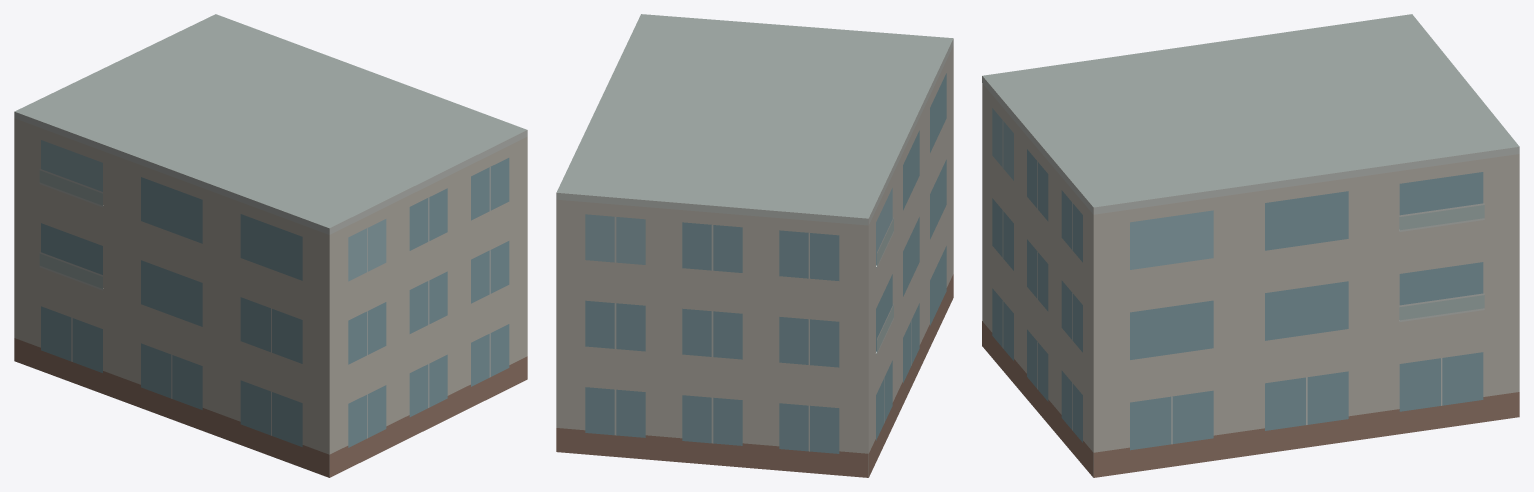
The model's file is survey-upis-32721282.glb.
3 renders of one model, left to right at view 1: azimuth 30°, elevation 25°; view 2: azimuth 150°, elevation 25°; view 3: azimuth 270°, elevation 25°, orthographic. The views are drawn at different scales.
Visible parts, largest first — view 1: survey-upis-32721282.tmp; view 2: survey-upis-32721282.tmp; view 3: survey-upis-32721282.tmp.
Part boxes in pixels (<box>): survey-upis-32721282.tmp: <box>14,14,527,477</box>; survey-upis-32721282.tmp: <box>556,14,953,477</box>; survey-upis-32721282.tmp: <box>982,14,1519,477</box>.
Size of the model in its own units: 14.06 by 9.15 by 16.5.
